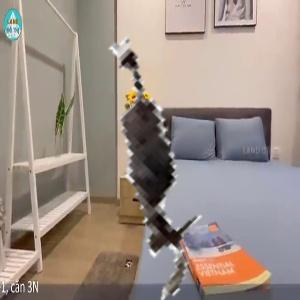drone: (2, 5, 293, 296)
